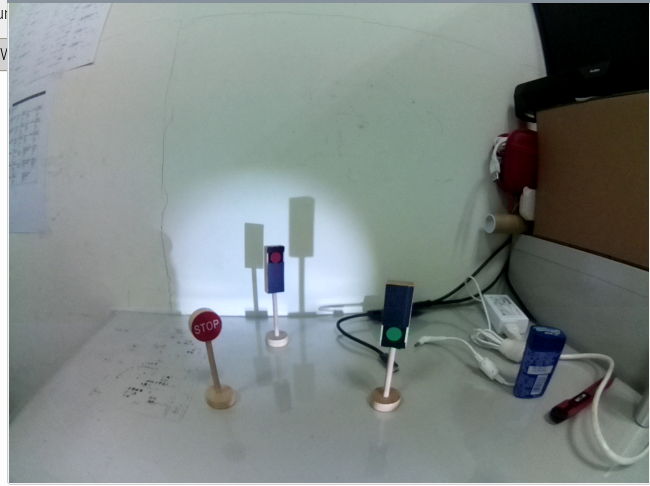Green: (380, 283, 414, 357)
Red: (264, 245, 286, 299)
Stop: (188, 306, 224, 343)
